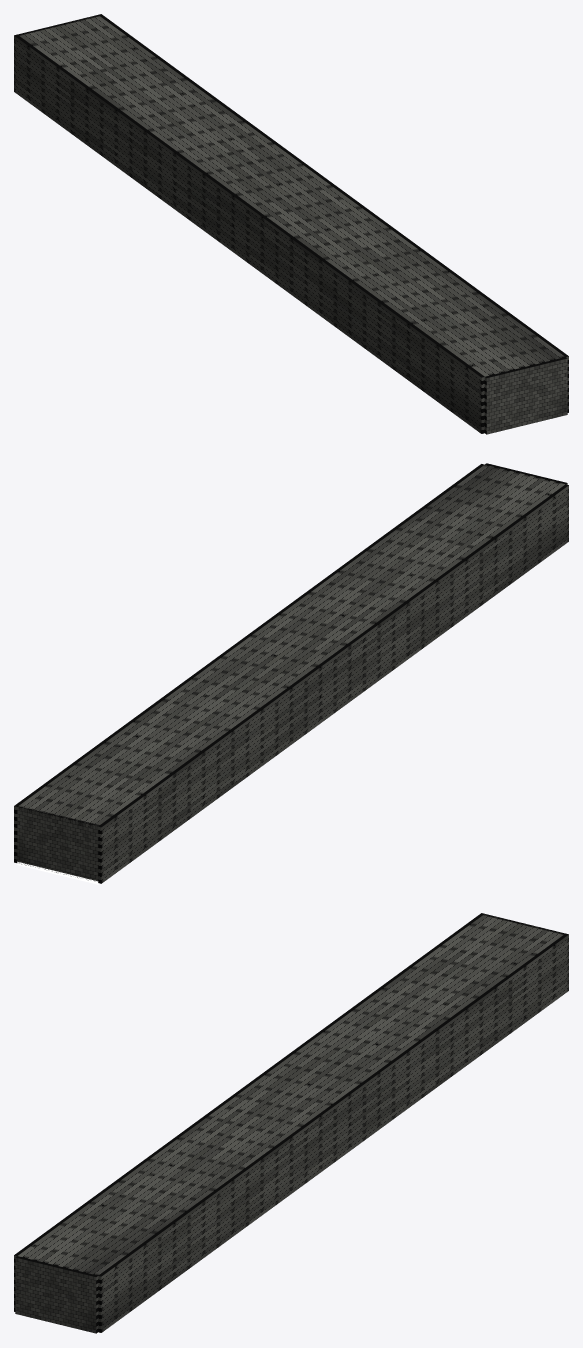
Rendered from curling.glb.
3 views of the same model, one above another, from view 1: azimuth 30°, elevation 25°; view 2: azimuth 150°, elevation 25°; view 3: azimuth 330°, elevation 25° (orthographic).
Visible parts, largest first — view 1: 平面.005, 平面.002, 平面.003, 平面; view 2: 平面.005, 平面.002, 平面.004, 平面; view 3: 平面.005, 平面, 平面.003, 平面.002.
Boxes of the visible parts, left/top/right/bottom form: 平面.005: left=19, top=15, right=564, bottom=376; 平面.002: left=14, top=34, right=484, bottom=433; 平面.003: left=484, top=357, right=567, bottom=434; 平面: left=98, top=14, right=568, bottom=412; 平面.005: left=18, top=464, right=565, bottom=829; 平面.002: left=98, top=484, right=568, bottom=883; 平面.004: left=17, top=806, right=99, bottom=881; 平面: left=14, top=464, right=484, bottom=862; 平面.005: left=18, top=914, right=563, bottom=1275; 平面: left=98, top=933, right=568, bottom=1332; 平面.003: left=15, top=1256, right=98, bottom=1333; 平面.002: left=14, top=913, right=484, bottom=1311.
Size of the model in its own units: 162 by 103 by 1506.
Materials: 4 (1 with a texture image).
